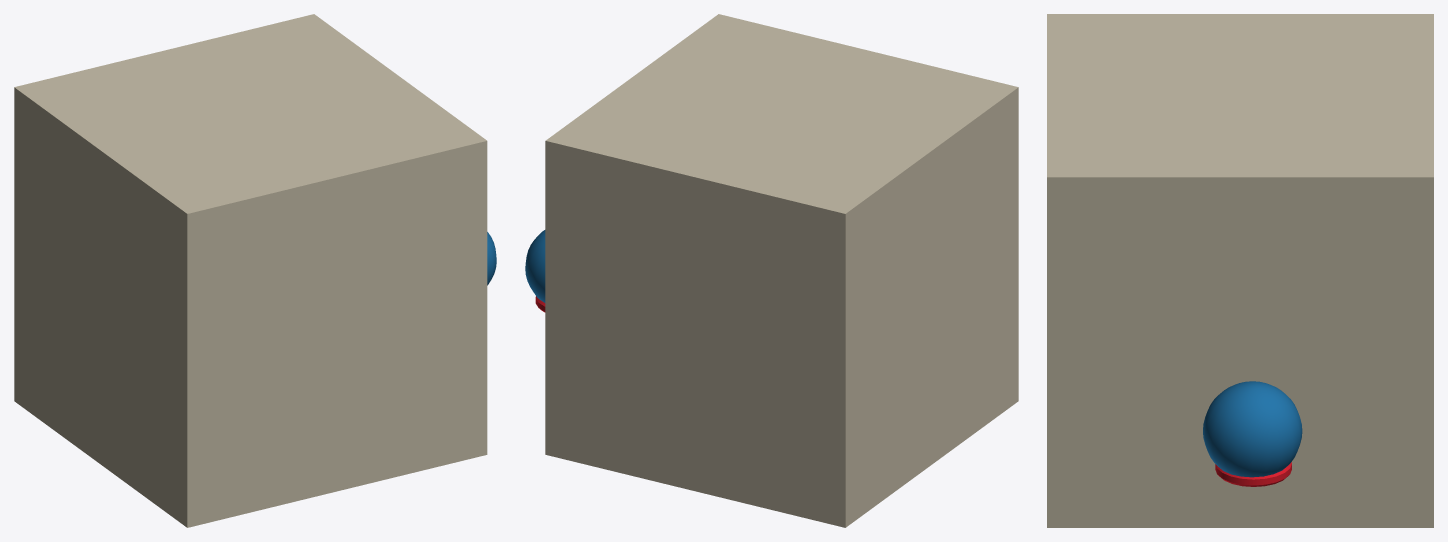
The model's file is DoraemonRoom.obj.
The picture shows the model from 3 angles, left to right: view 1: azimuth 30°, elevation 25°; view 2: azimuth 150°, elevation 25°; view 3: azimuth 270°, elevation 25°; orthographic projection. The views are drawn at different scales.
Visible parts, largest first — view 1: pCube1; view 2: pCube1, DoraemonHead:pSphere1; view 3: pCube1, DoraemonHead:pSphere1, DoraemonHead:pPipe1.
Part boxes in pixels (box(x1,y1,x2,y2)): pCube1: box(14, 14, 487, 527); pCube1: box(545, 14, 1018, 527); DoraemonHead:pSphere1: box(525, 230, 545, 302); pCube1: box(1047, 14, 1433, 527); DoraemonHead:pSphere1: box(1203, 381, 1302, 477); DoraemonHead:pPipe1: box(1215, 462, 1291, 486).
Bounding box in the file's own units: 10.24 × 7.77 × 7.77.
Materials: 2 (2 with a texture image).
